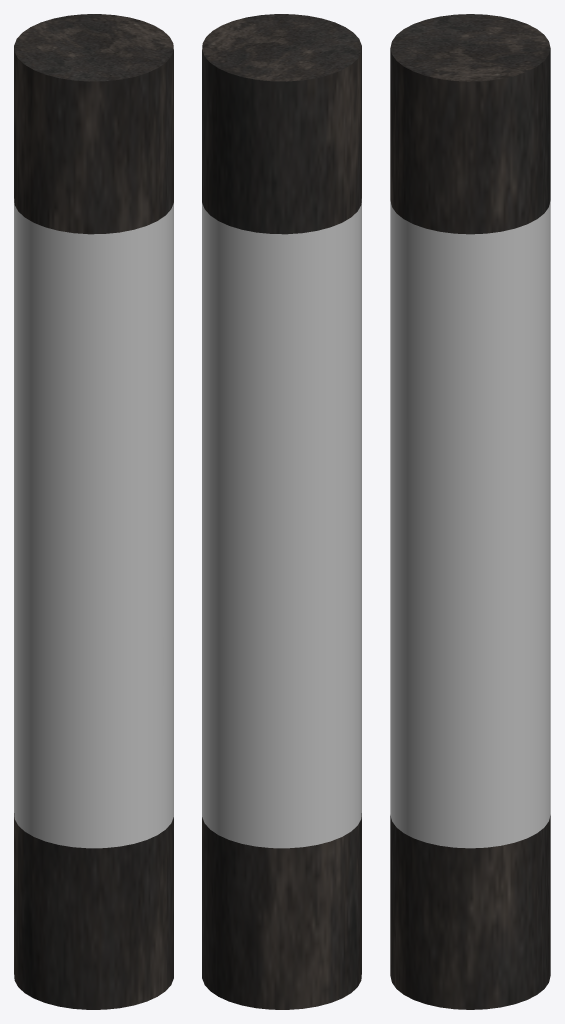
The model's file is WorkingFuse.fbx.
3 views of the same model, side by side, from view 1: azimuth 30°, elevation 25°; view 2: azimuth 150°, elevation 25°; view 3: azimuth 270°, elevation 25° (orthographic).
Visible parts, largest first — view 1: Fuse; view 2: Fuse; view 3: Fuse.
Part boxes in pixels (x1,y1,x2,y2): Fuse: (14,14,173,1009); Fuse: (202,14,361,1009); Fuse: (390,14,550,1009).
Size of the model in its own units: 3.18 by 20.36 by 3.18.
Materials: 2 (1 with a texture image).
